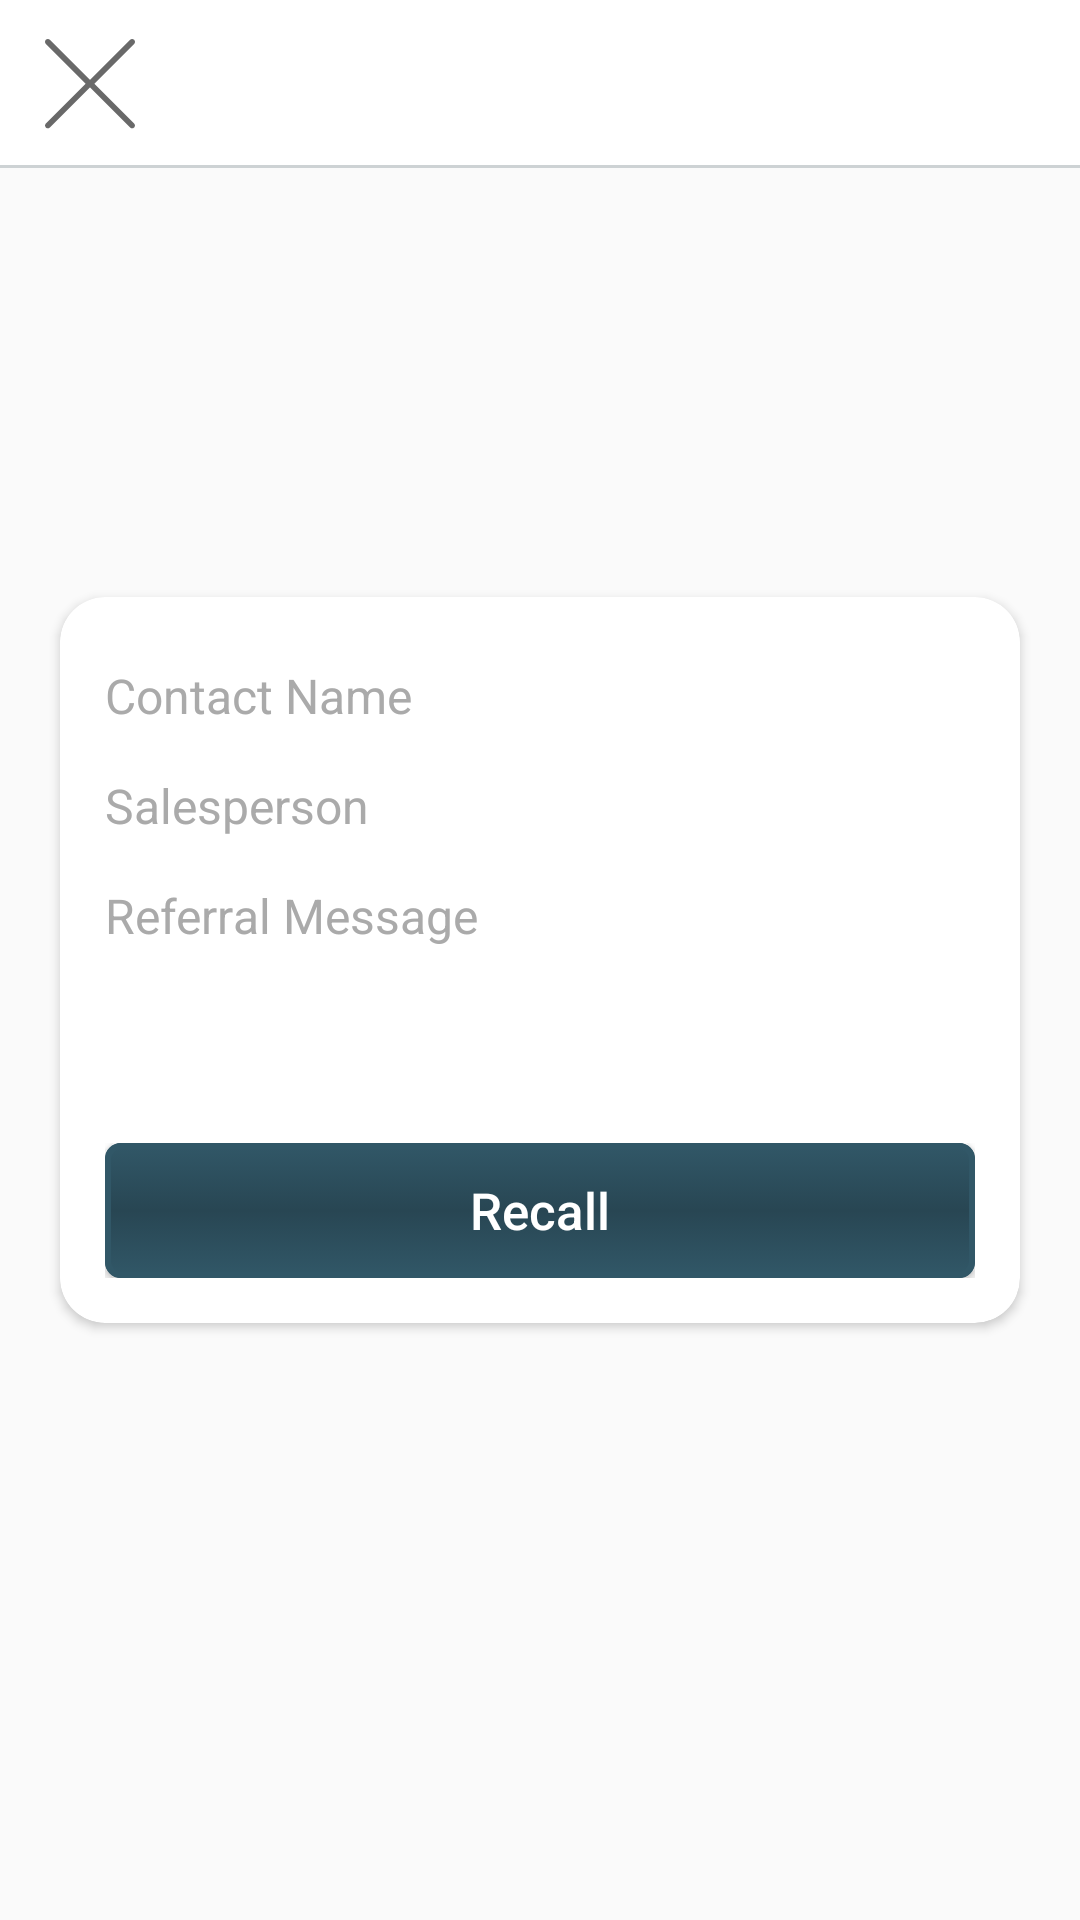

Named icons in this screenshot (1080x1920) and their bounding boxes, (x1, y1, x2, y2):
Button toclose dialog of creating new appointment: (45, 39, 135, 129)
